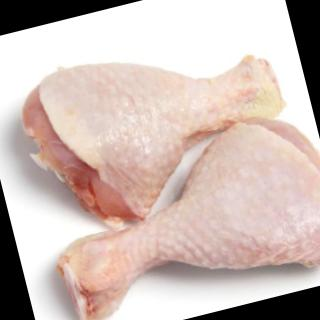Ayam: (7, 12, 310, 251), (31, 98, 320, 320)
